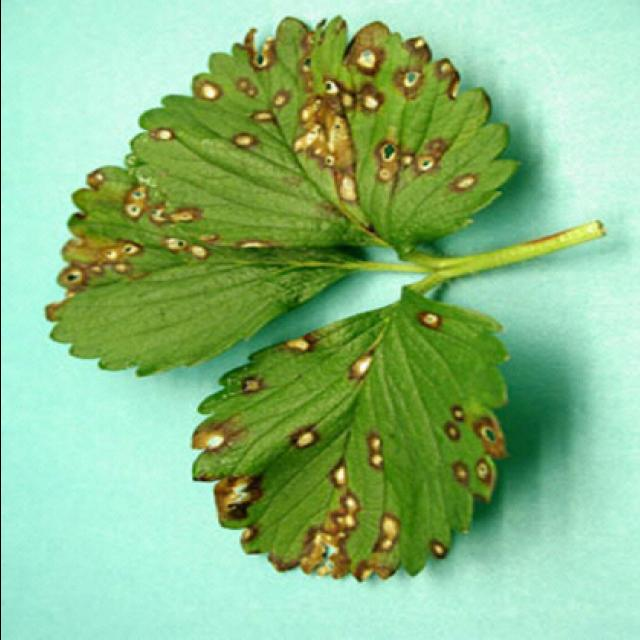Leaf Spot: (129, 15, 520, 259), (190, 285, 510, 583), (42, 166, 366, 381)
